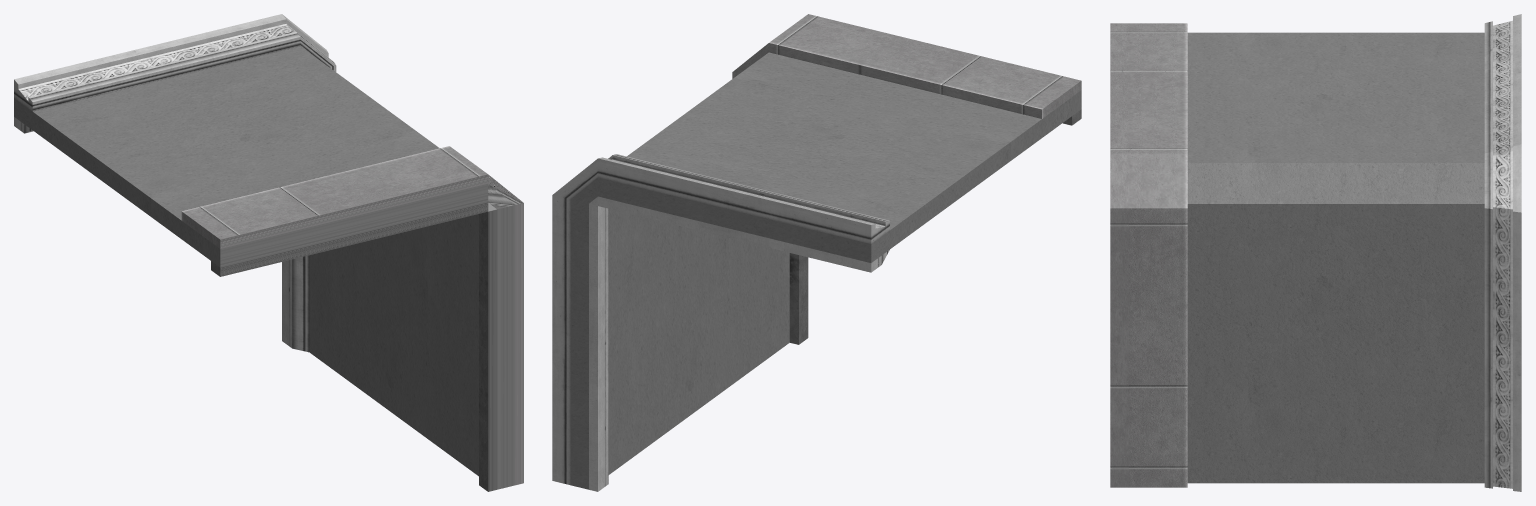
File: A_wall_ 4m_corner.fbx
3 renders of one model, left to right at view 1: azimuth 30°, elevation 25°; view 2: azimuth 150°, elevation 25°; view 3: azimuth 270°, elevation 25°, orthographic. The views are drawn at different scales.
Visible parts, largest first — view 1: A_wall__4m_corner; view 2: A_wall__4m_corner; view 3: A_wall__4m_corner.
Boxes of the visible parts, x1,y1,x2,y2 form: A_wall__4m_corner: [14, 14, 523, 491]; A_wall__4m_corner: [552, 14, 1081, 491]; A_wall__4m_corner: [1110, 14, 1521, 491].
Bounding box in the file's own units: 3.5 × 3.5 × 4.
